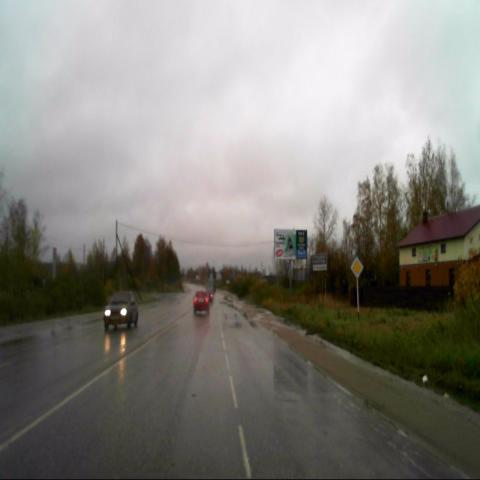2_1: (350, 255, 364, 278)
